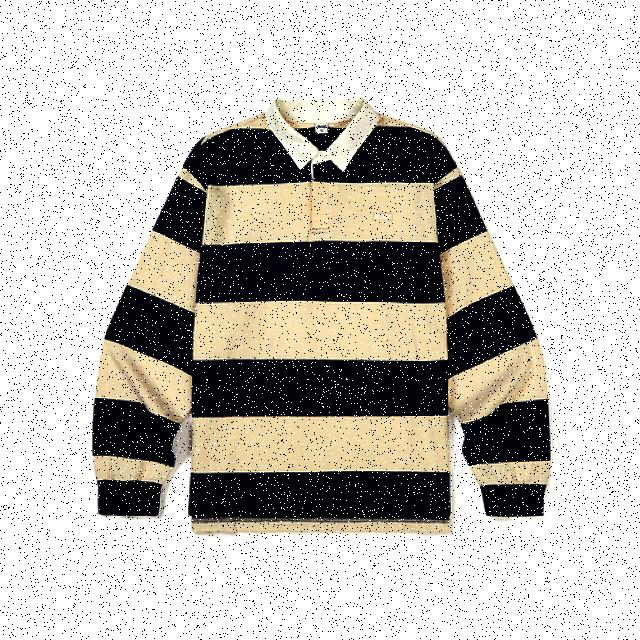Blouse_deep: (73, 74, 582, 550)
